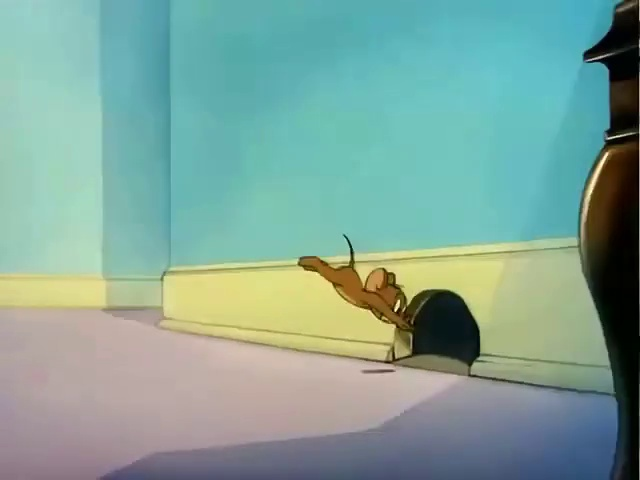jerry: (283, 214, 453, 343)
